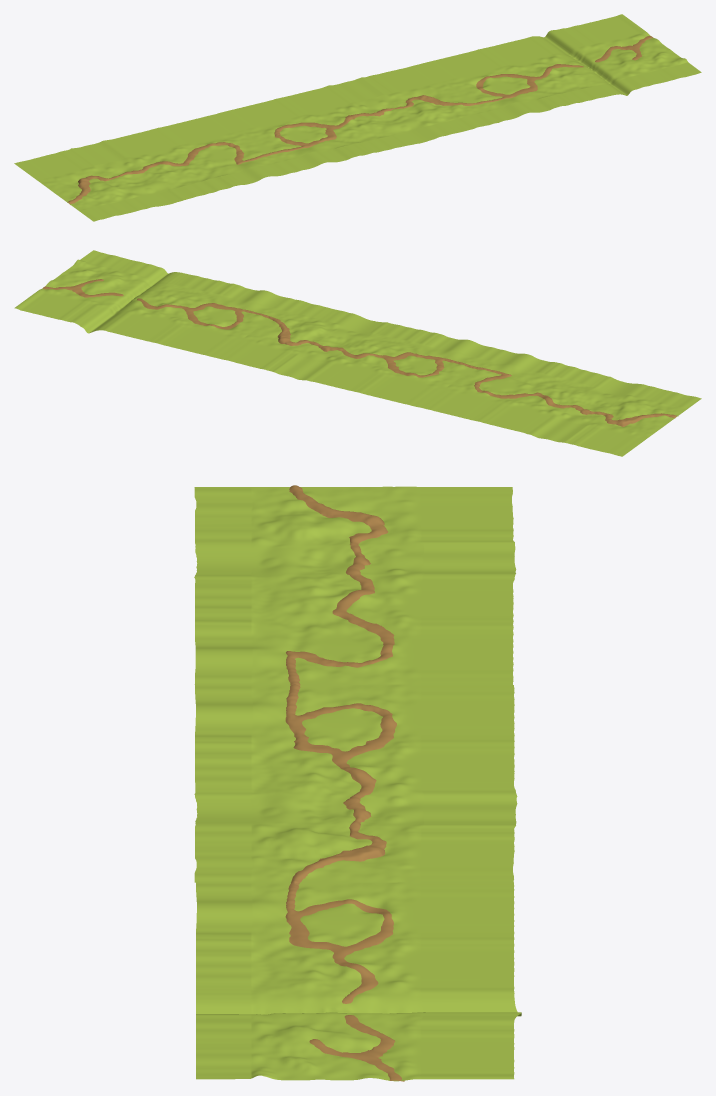
The model's file is terrainNiveau1long.fbx.
3 renders of one model, top to bottom at view 1: azimuth 30°, elevation 25°; view 2: azimuth 150°, elevation 25°; view 3: azimuth 270°, elevation 25°, orthographic. The views are drawn at different scales.
Visible parts, largest first — view 1: terrainNiv1_3, terrainNiv1_1, terrainNiv1_2, chemin2, chemin1, chemin3; view 2: terrainNiv1_1, terrainNiv1_3, terrainNiv1_2, chemin2, chemin1, chemin3; view 3: terrainNiv1_3, terrainNiv1_1, terrainNiv1_2, chemin2, chemin1, chemin3.
Part boxes in pixels (<box>): terrainNiv1_3: <box>14,114,296,221</box>; terrainNiv1_1: <box>420,14,701,122</box>; terrainNiv1_2: <box>217,64,499,171</box>; chemin2: <box>272,95,476,154</box>; chemin1: <box>476,36,652,104</box>; chemin3: <box>67,142,273,204</box>; terrainNiv1_1: <box>14,250,295,357</box>; terrainNiv1_3: <box>420,349,701,456</box>; terrainNiv1_2: <box>217,299,498,407</box>; chemin2: <box>269,316,473,377</box>; chemin1: <box>42,279,269,329</box>; chemin3: <box>472,366,678,426</box>; terrainNiv1_3: <box>194,486,516,684</box>; terrainNiv1_1: <box>196,882,521,1081</box>; terrainNiv1_2: <box>194,684,517,882</box>; chemin2: <box>285,684,396,883</box>; chemin1: <box>285,883,404,1081</box>; chemin3: <box>286,485,394,685</box>.
Bounding box in the file's own units: 154253 × 1941 × 35975.
